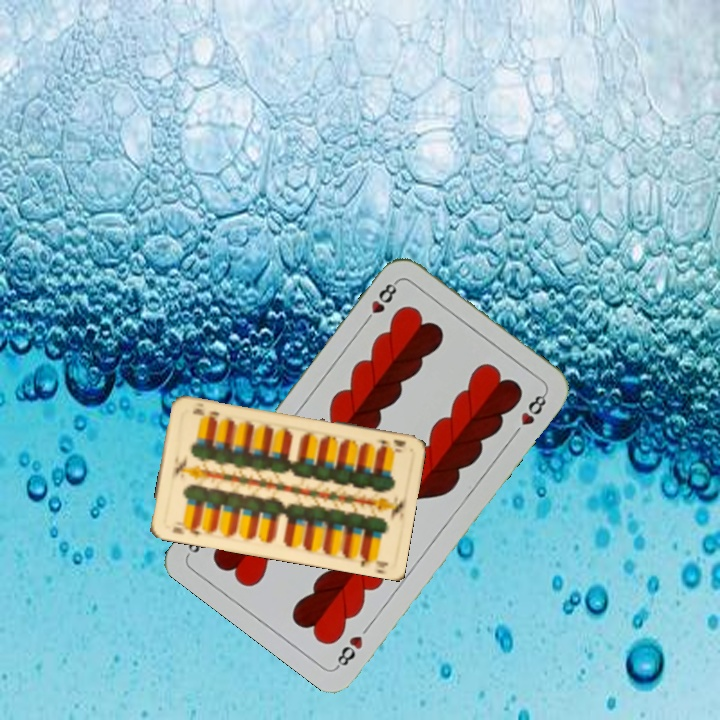E10: (371, 435, 408, 455), (168, 522, 204, 538)
H8: (360, 277, 401, 327), (332, 631, 366, 671)
